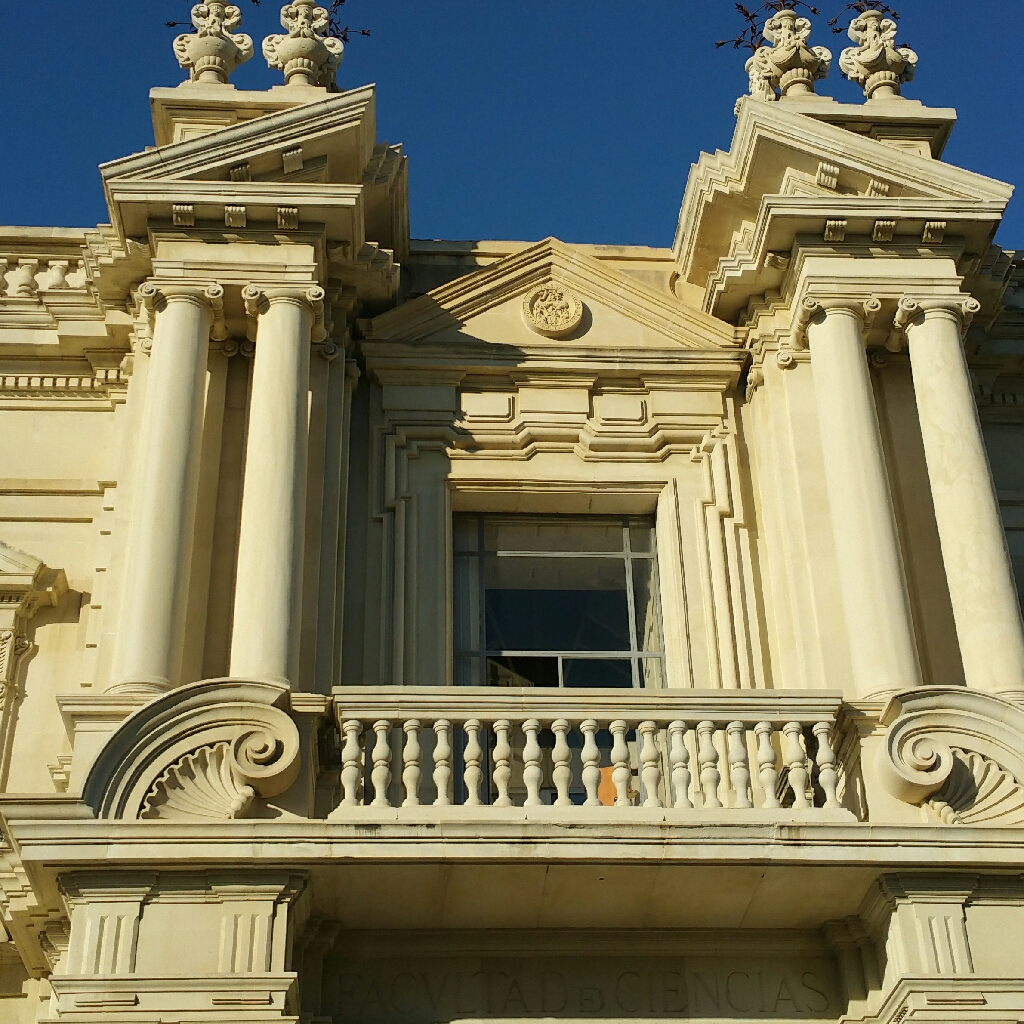fronton: (360, 232, 757, 373)
fronton-partido: (67, 667, 1024, 880), (91, 76, 1024, 232)
vano-adintelado: (428, 462, 698, 820)
